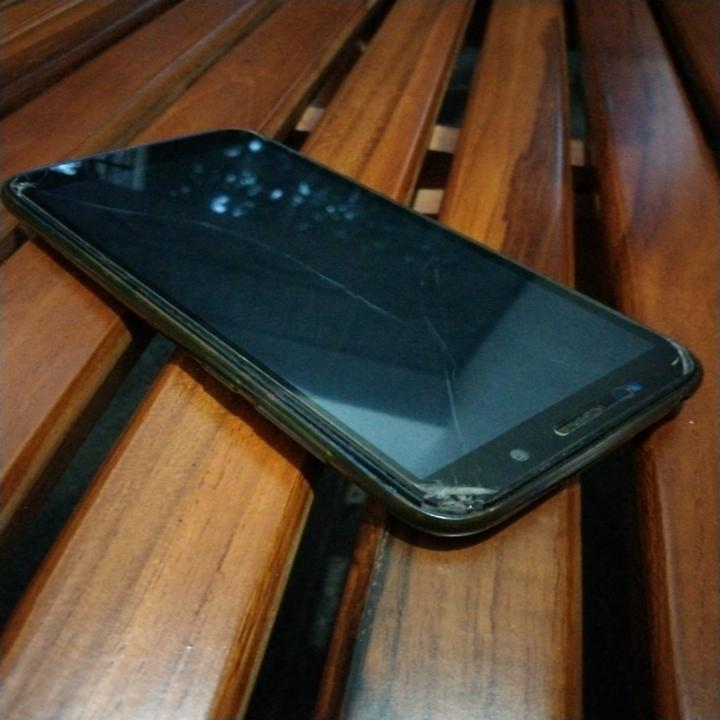Crack: (424, 486, 491, 534)
